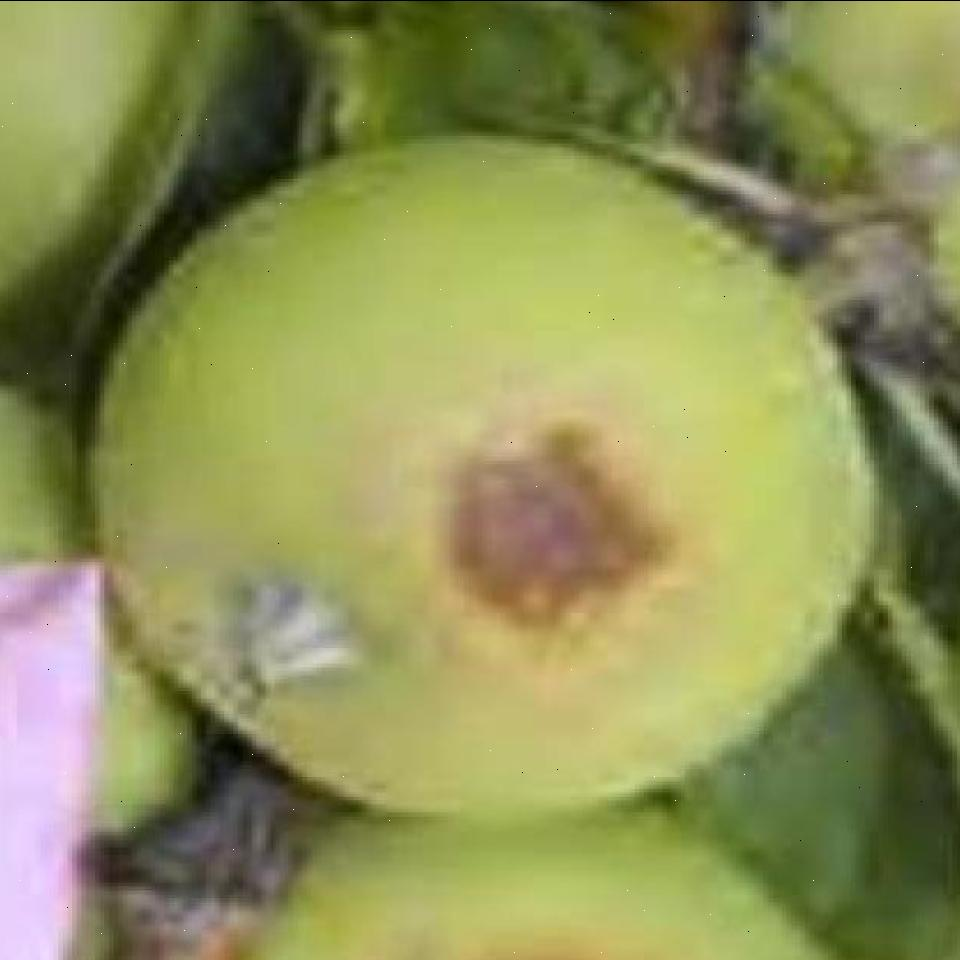Sunscald: (382, 380, 687, 690)
